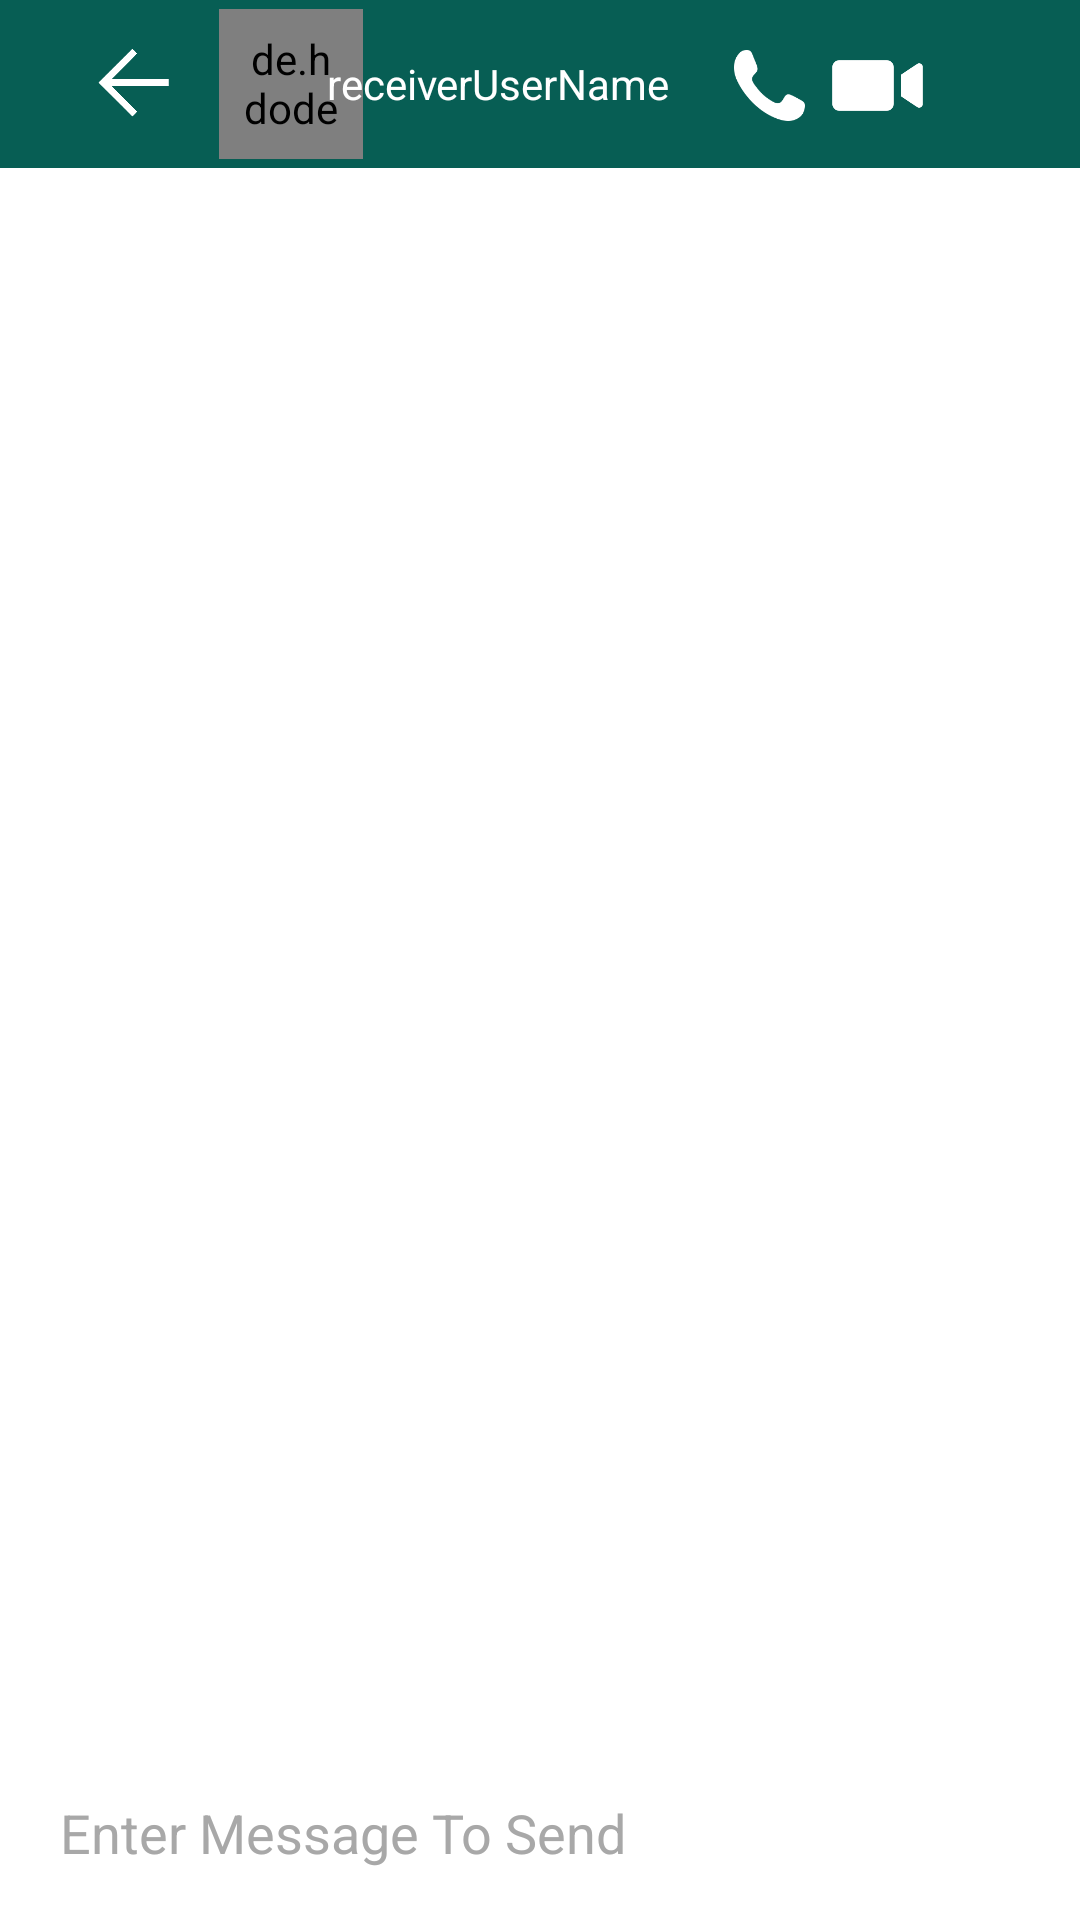

Named icons in this screenshot (1080 x 1920) and their centers, point (x, y):
back arrow: point (133, 83)
call: point (769, 85)
video: point (877, 85)
